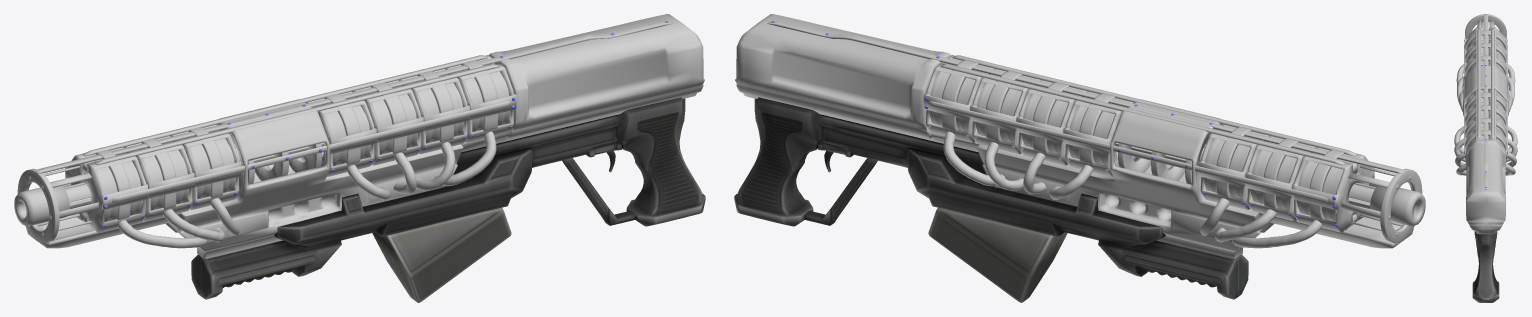
The model's file is Railgun_Prototype-Wavefront OBJ.obj.
3 views of the same model, side by side, from view 1: azimuth 30°, elevation 25°; view 2: azimuth 150°, elevation 25°; view 3: azimuth 270°, elevation 25° (orthographic). The views are drawn at different scales.
Parts seen in each view (by area): view 1: Railgun_Prototype_T3_Tricker; view 2: Railgun_Prototype_T3_Tricker; view 3: Railgun_Prototype_T3_Tricker.
Part boxes in pixels (left/top/right/bottom): Railgun_Prototype_T3_Tricker: left=14, top=14, right=705, bottom=302; Railgun_Prototype_T3_Tricker: left=734, top=14, right=1425, bottom=302; Railgun_Prototype_T3_Tricker: left=1454, top=14, right=1517, bottom=302.
Bounding box in the file's own units: 1 × 0.3126 × 0.1444.
